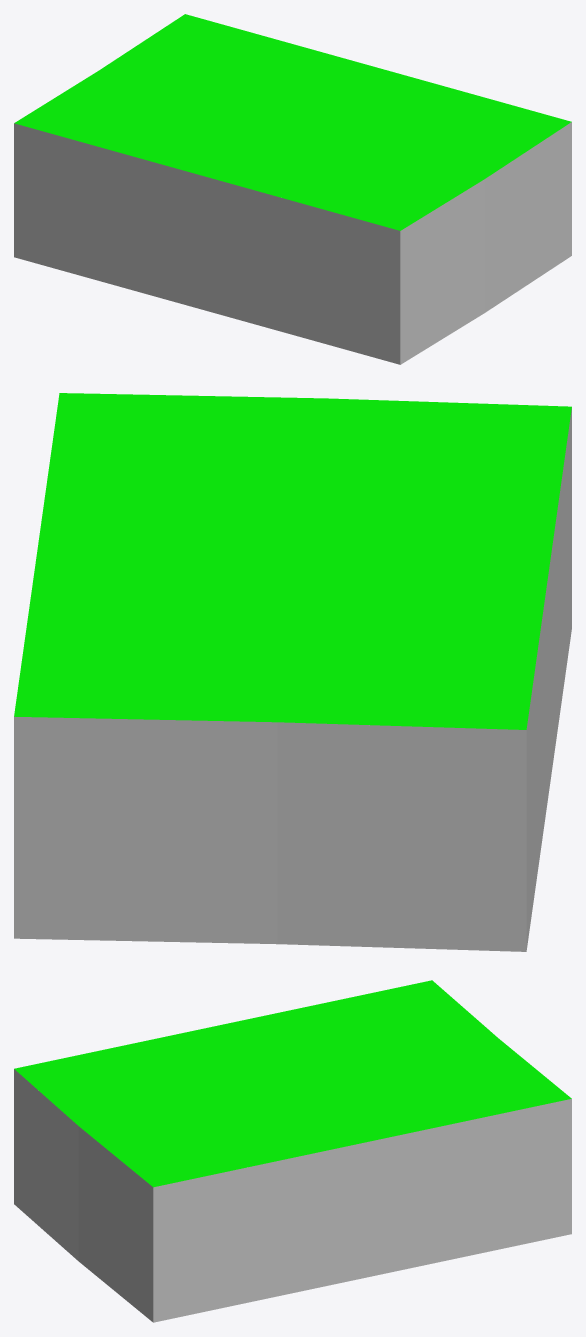
Rendered from DEHB01ALn0001NaB.gltf.
3 renders of one model, top to bottom at view 1: azimuth 30°, elevation 25°; view 2: azimuth 150°, elevation 25°; view 3: azimuth 270°, elevation 25°, orthographic. The views are drawn at different scales.
Parts seen in each view (by area): view 1: Z_UP; view 2: Z_UP; view 3: Z_UP.
Part boxes in pixels (x1,y1,x2,y2): Z_UP: [14, 14, 571, 364]; Z_UP: [14, 393, 571, 951]; Z_UP: [14, 980, 571, 1322].
Bounding box in the file's own units: 7.63 × 2.33 × 8.69.
